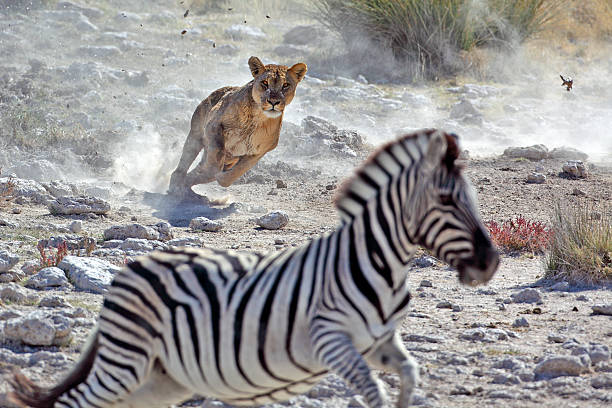lion: (168, 52, 310, 201)
